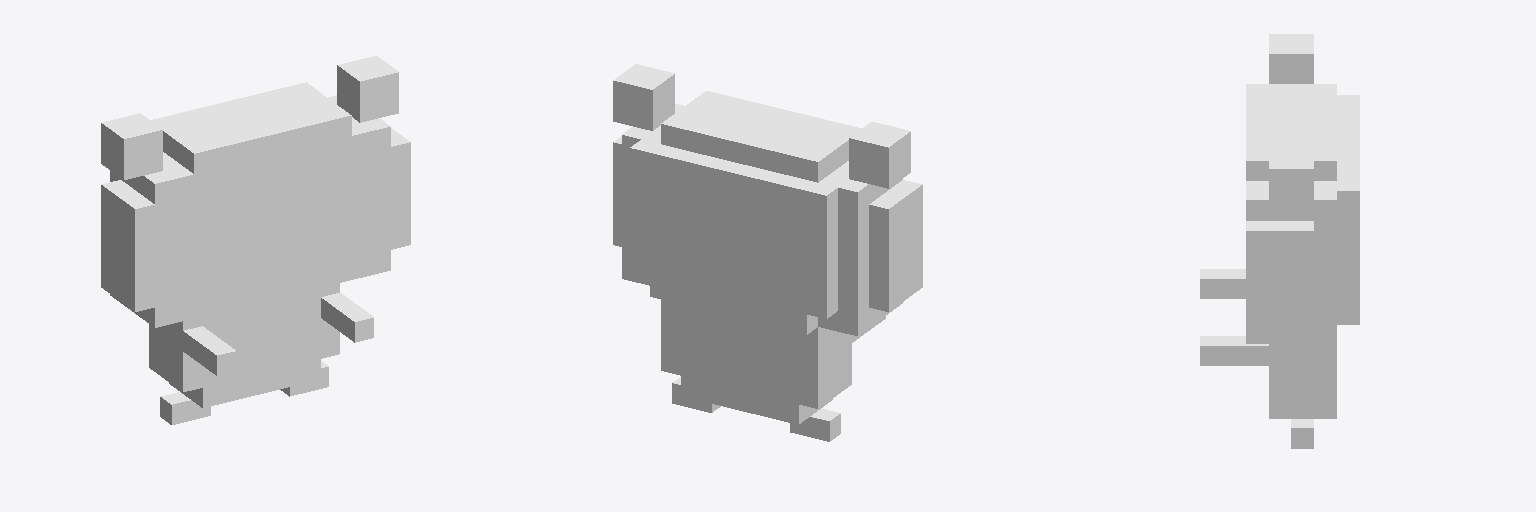
The model's file is tanuki_stretch_2.obj.
The picture shows the model from 3 angles: view 1: azimuth 30°, elevation 25°; view 2: azimuth 150°, elevation 25°; view 3: azimuth 270°, elevation 25°; orthographic projection.
Visible parts, largest first — view 1: tanuki_stretch_2; view 2: tanuki_stretch_2; view 3: tanuki_stretch_2.
Part boxes in pixels (left/top/right/bottom): tanuki_stretch_2: left=101, top=56, right=410, bottom=424; tanuki_stretch_2: left=613, top=64, right=922, bottom=441; tanuki_stretch_2: left=1200, top=34, right=1359, bottom=448.
Bounding box in the file's own units: 14 × 15 × 7.